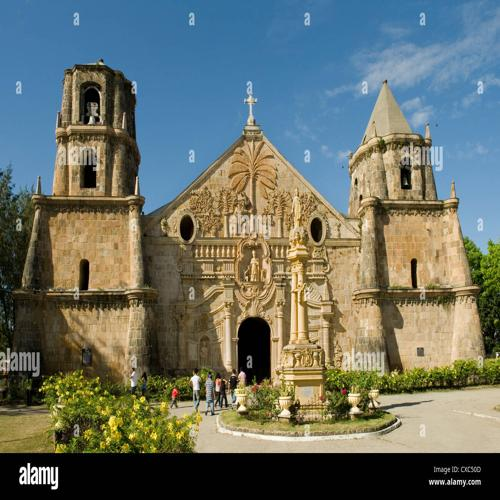Miagao Church: (12, 58, 485, 376)
